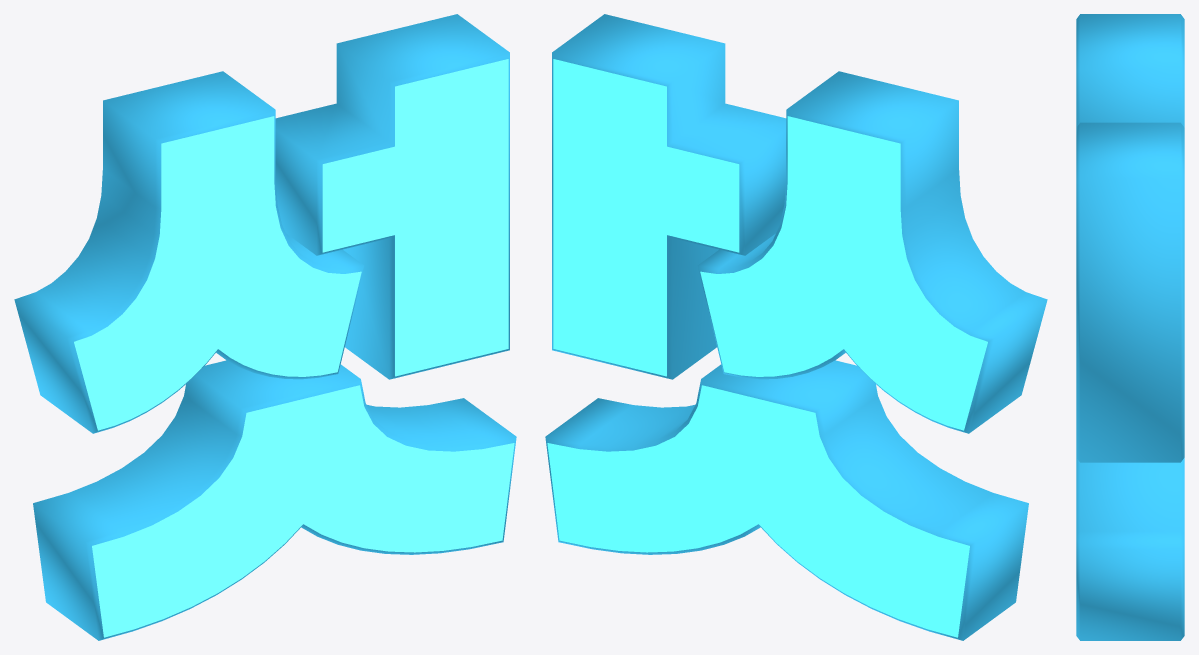
The picture shows the model from 3 angles, left to right: view 1: azimuth 30°, elevation 25°; view 2: azimuth 150°, elevation 25°; view 3: azimuth 270°, elevation 25°; orthographic projection. The views are drawn at different scales.
Parts seen in each view (by area): view 1: glyph; view 2: glyph; view 3: glyph.
Part boxes in pixels (bbox=[...]): glyph: bbox=[14, 14, 516, 640]; glyph: bbox=[545, 14, 1047, 640]; glyph: bbox=[1076, 14, 1184, 640].
Size of the model in its own units: 0.0739 by 0.0766 by 0.0162.
